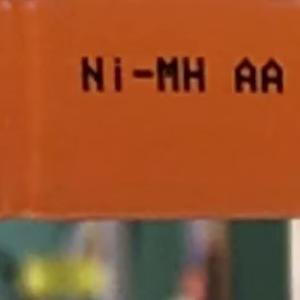keyword: (72, 47, 215, 101)
